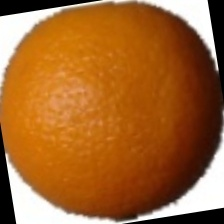orange: (48, 52, 220, 214)
